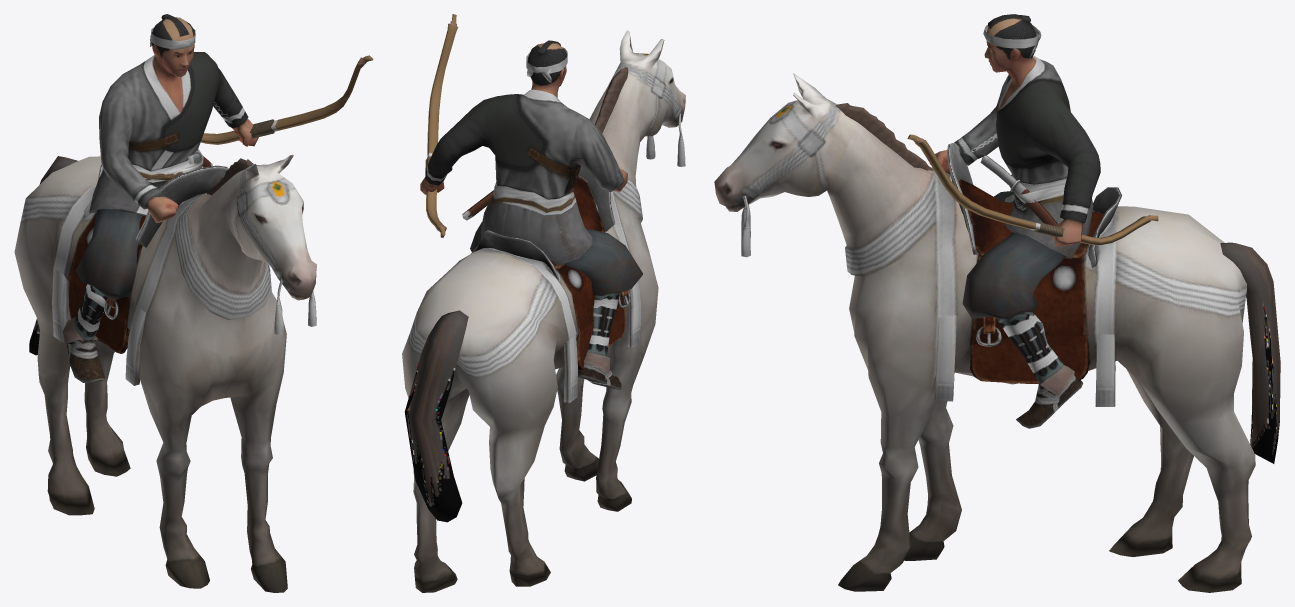
File: 144-yumihorsearcher.glb
3 views of the same model, side by side, from view 1: azimuth 30°, elevation 25°; view 2: azimuth 150°, elevation 25°; view 3: azimuth 270°, elevation 25° (orthographic). The views are drawn at different scales.
Size of the model in its own units: 1.4 by 2.86 by 2.64.
4 materials, 4 textured.
